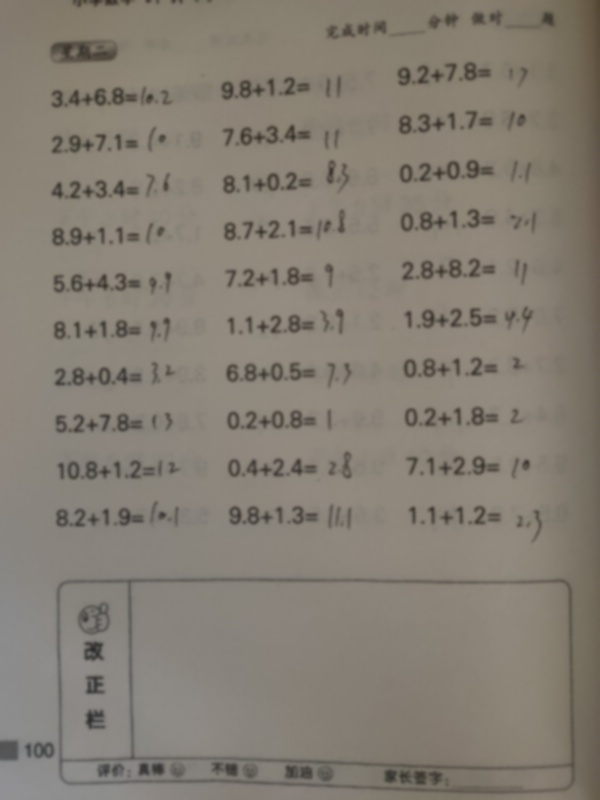equation: (221, 207, 357, 249), (405, 502, 545, 542), (224, 356, 361, 395), (217, 159, 357, 197), (399, 299, 541, 336), (399, 251, 543, 287), (39, 83, 191, 116), (220, 303, 357, 339), (219, 257, 344, 296), (48, 313, 183, 349), (47, 124, 173, 160), (47, 359, 183, 392), (53, 498, 182, 532), (225, 449, 356, 482), (397, 205, 539, 235), (220, 123, 353, 155), (394, 58, 530, 89), (396, 156, 534, 186), (51, 173, 181, 204), (226, 501, 355, 532), (395, 107, 529, 135), (49, 269, 174, 299), (224, 407, 341, 439), (217, 73, 343, 102), (403, 452, 532, 480), (399, 353, 527, 380), (401, 402, 527, 429), (48, 220, 168, 248), (54, 457, 183, 482), (52, 409, 176, 435)
